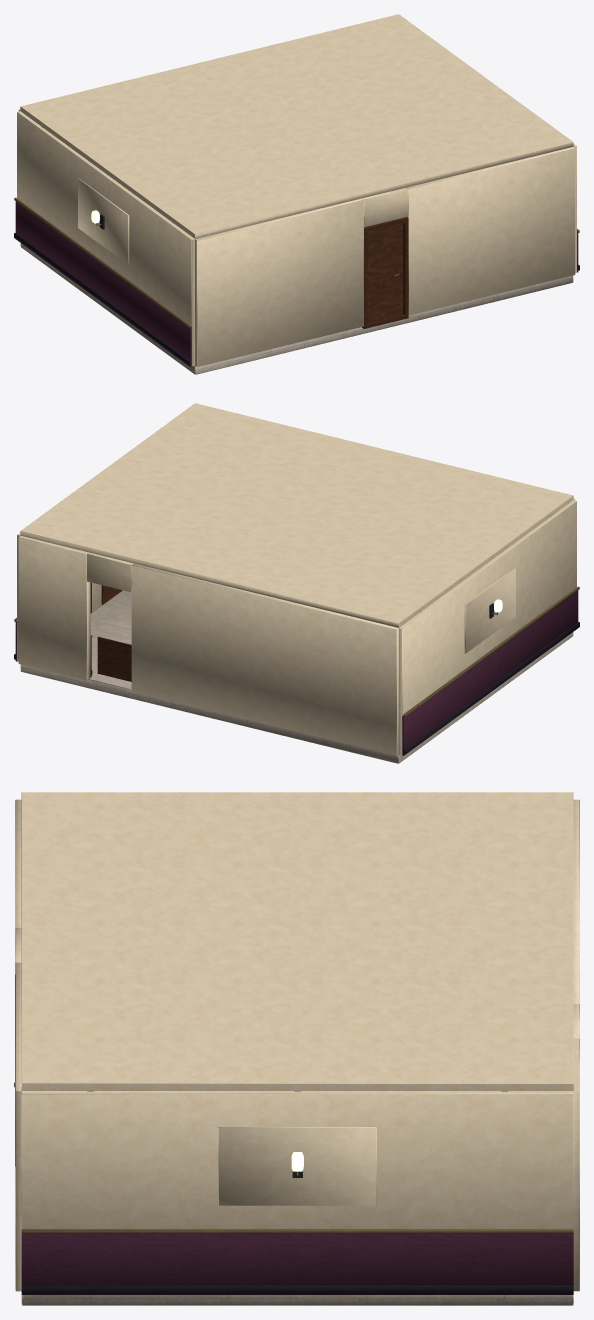
File: explore3d__management_office.glb
3 views of the same model, one above another, from view 1: azimuth 30°, elevation 25°; view 2: azimuth 150°, elevation 25°; view 3: azimuth 270°, elevation 25° (orthographic). The views are drawn at different scales.
Parts seen in each view (by area): view 1: Rebuilt_management_office; view 2: Rebuilt_management_office; view 3: Rebuilt_management_office.
Part boxes in pixels (box(x1,y1,x2,y2)): Rebuilt_management_office: box(14, 14, 579, 374); Rebuilt_management_office: box(14, 403, 579, 763); Rebuilt_management_office: box(14, 792, 579, 1305).
Size of the model in its own units: 10.79 by 3.56 by 8.2.
15 materials, 14 textured.
